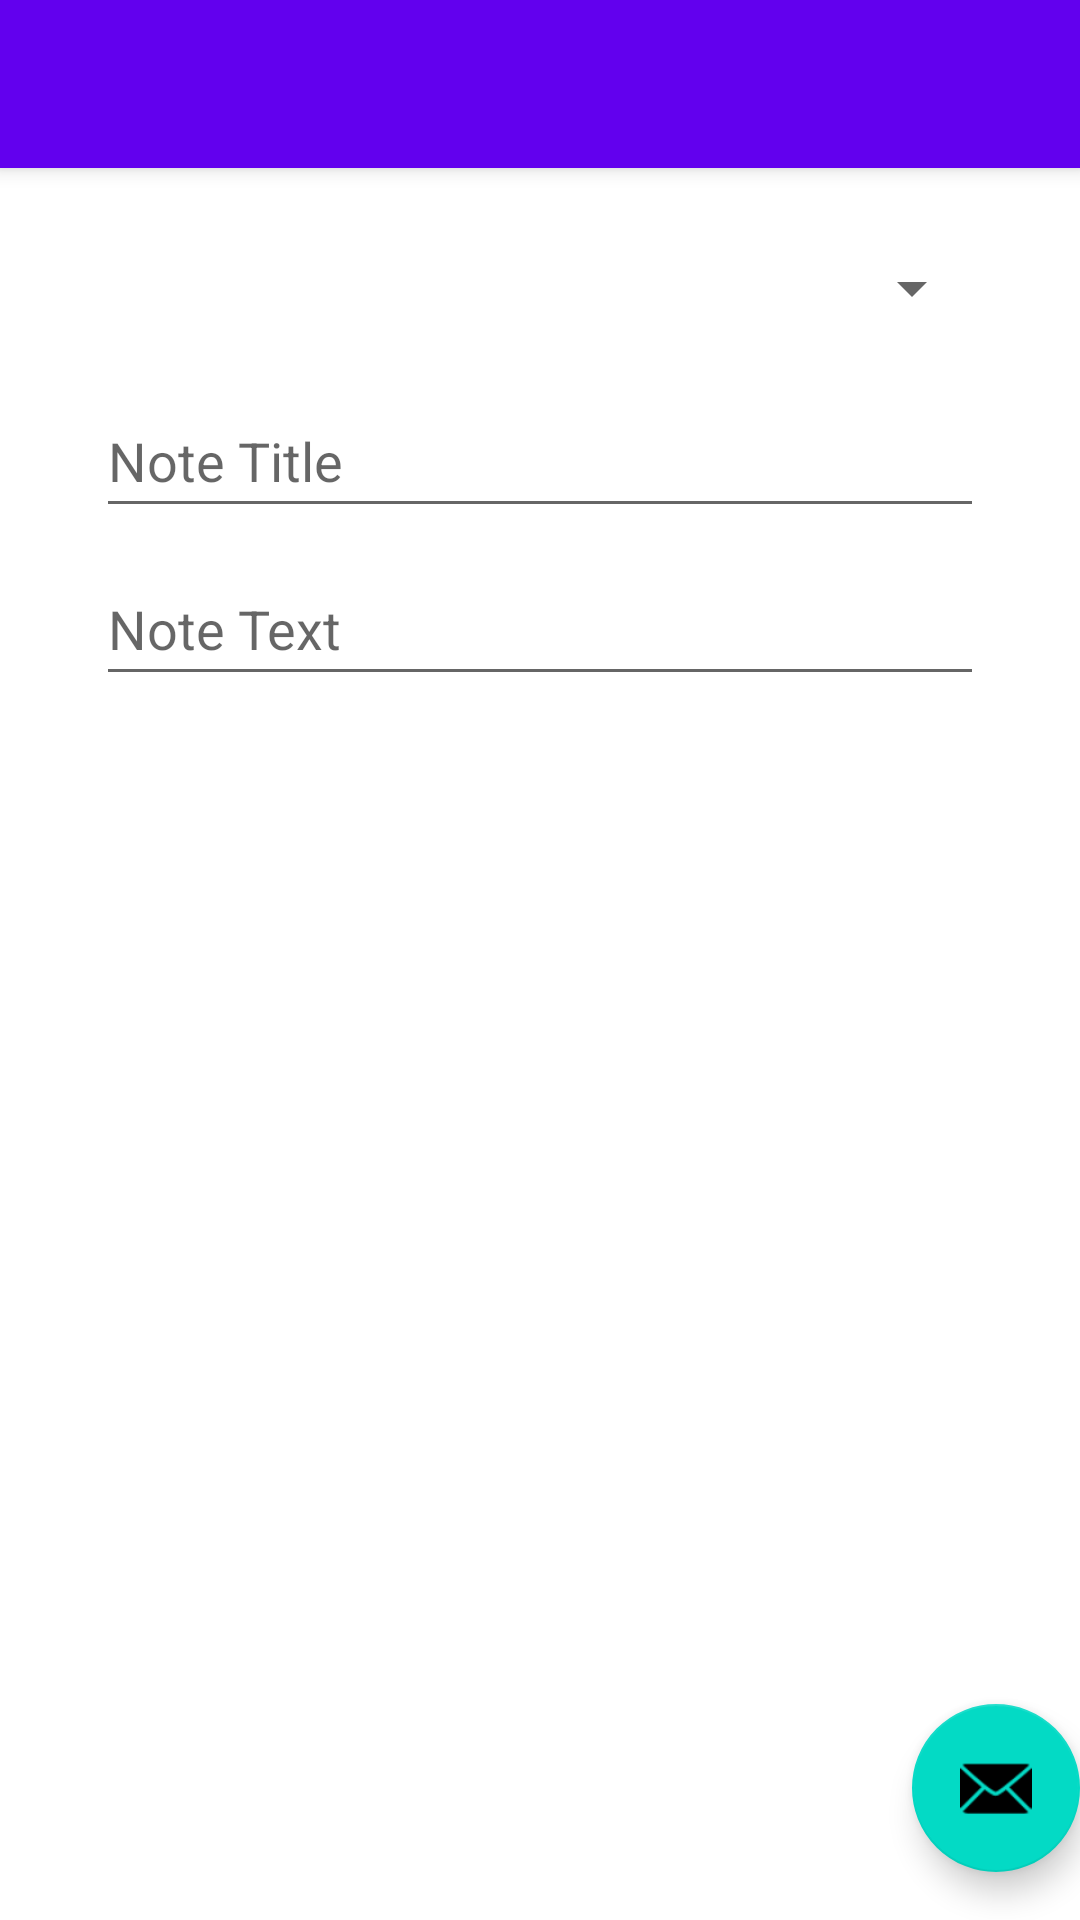

Icon bounding boxes for this 1080*1920 phone screenshot, format [left=x1, top=y1, right=x2, bottom=y2]:
email: [left=912, top=1704, right=1080, bottom=1872]
